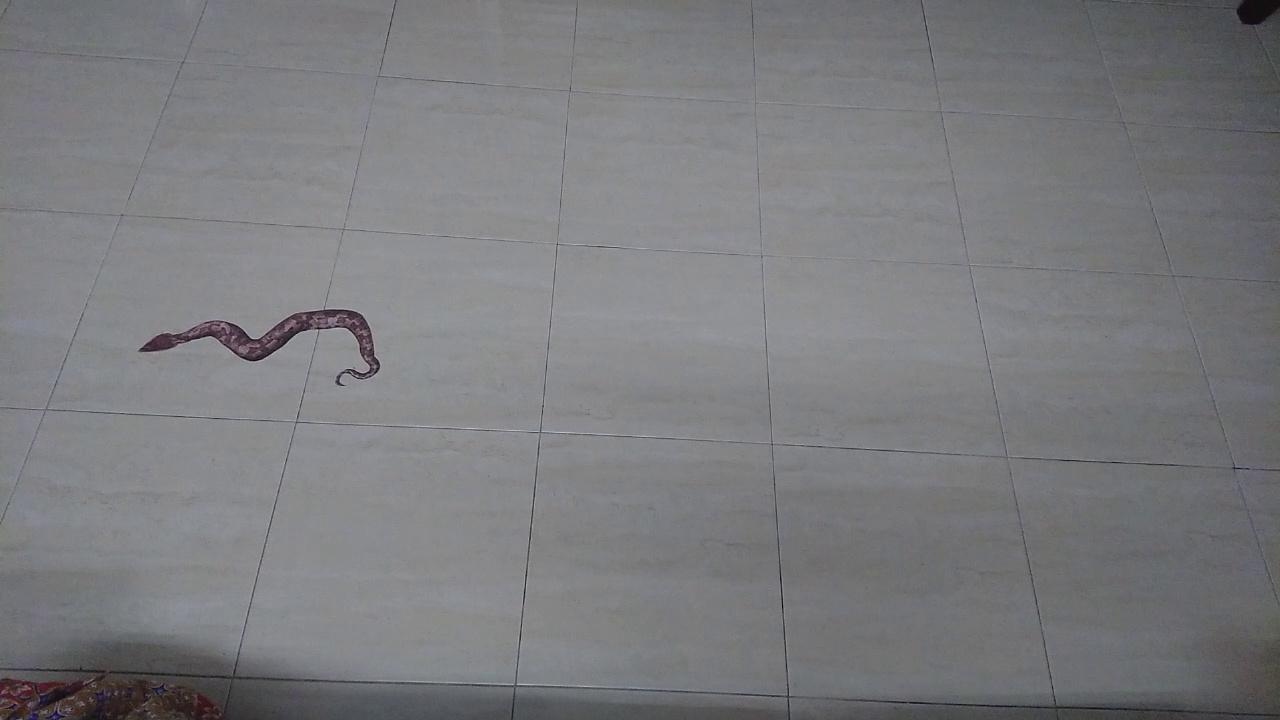snake: (117, 293, 399, 401)
